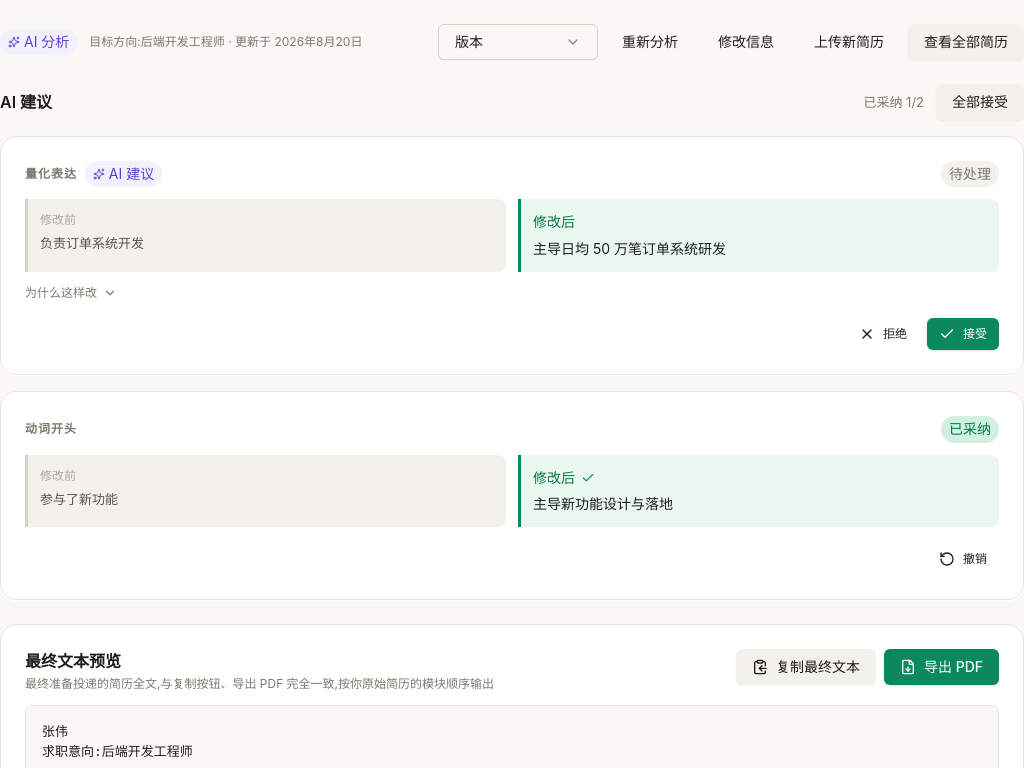
Test: ResumeResult 结果视图 › 全部接受失败:错误 toast
The image size is (1024, 768).
Click the button "全部接受" at (980, 102), box 936,84 -> 1023,120
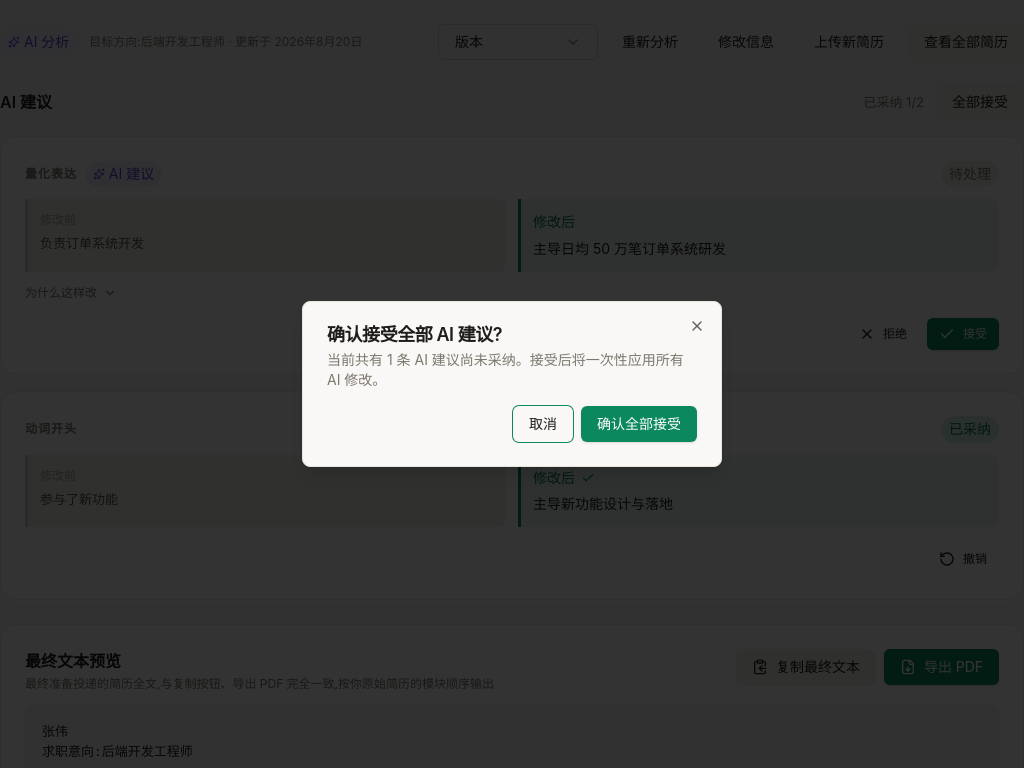
Click the button "确认全部接受" at (639, 424), box 581,406 -> 697,442
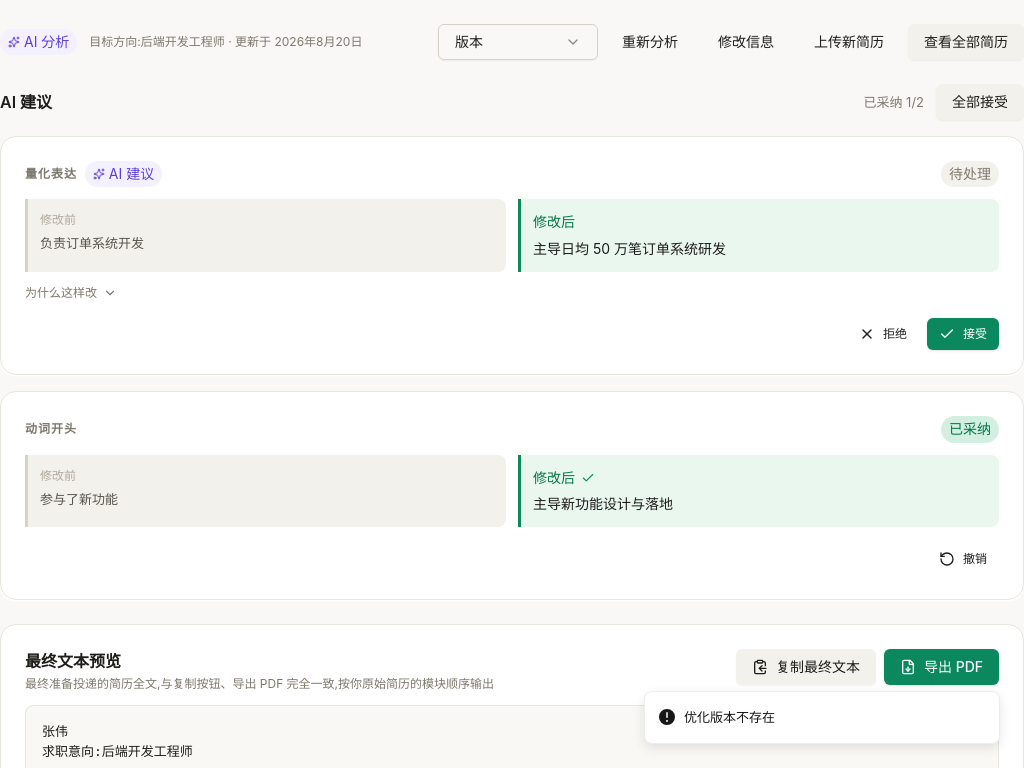
Result: the text "优化版本不存在" is shown at 684,708 -> 775,727
